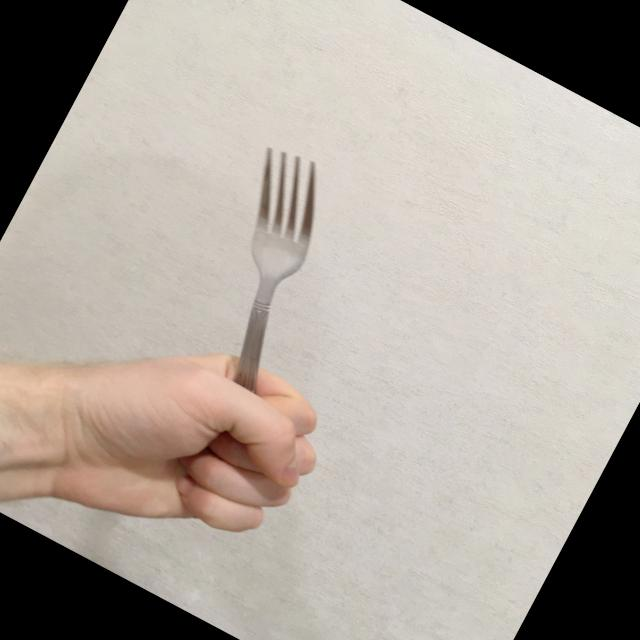fork: (122, 138, 369, 468)
